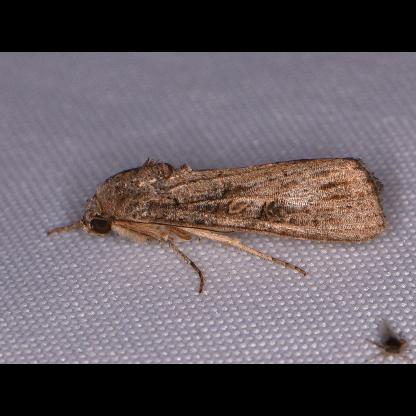Fall Armyworm Moth: (44, 154, 390, 296)
